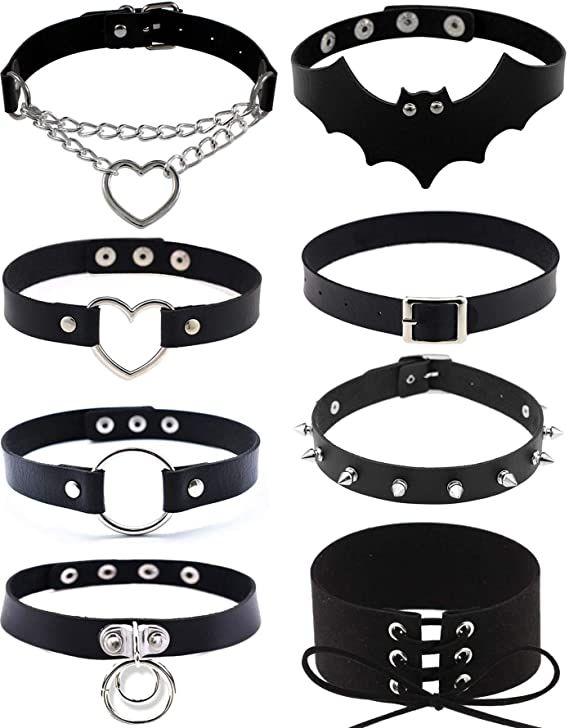cuero: (3, 1, 566, 708)
